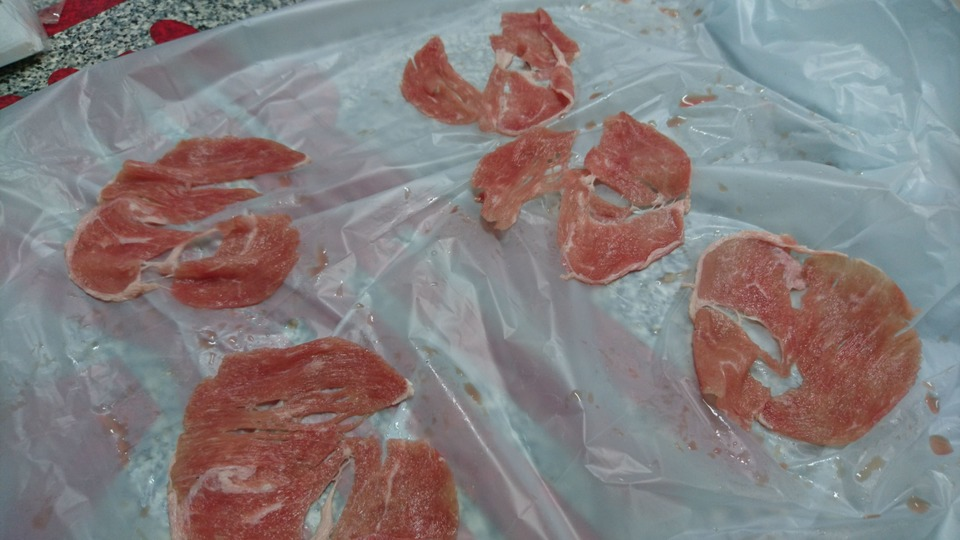restructured meat: (168, 336, 486, 540), (691, 235, 926, 468), (460, 130, 701, 300), (73, 143, 301, 306), (399, 13, 584, 124)
